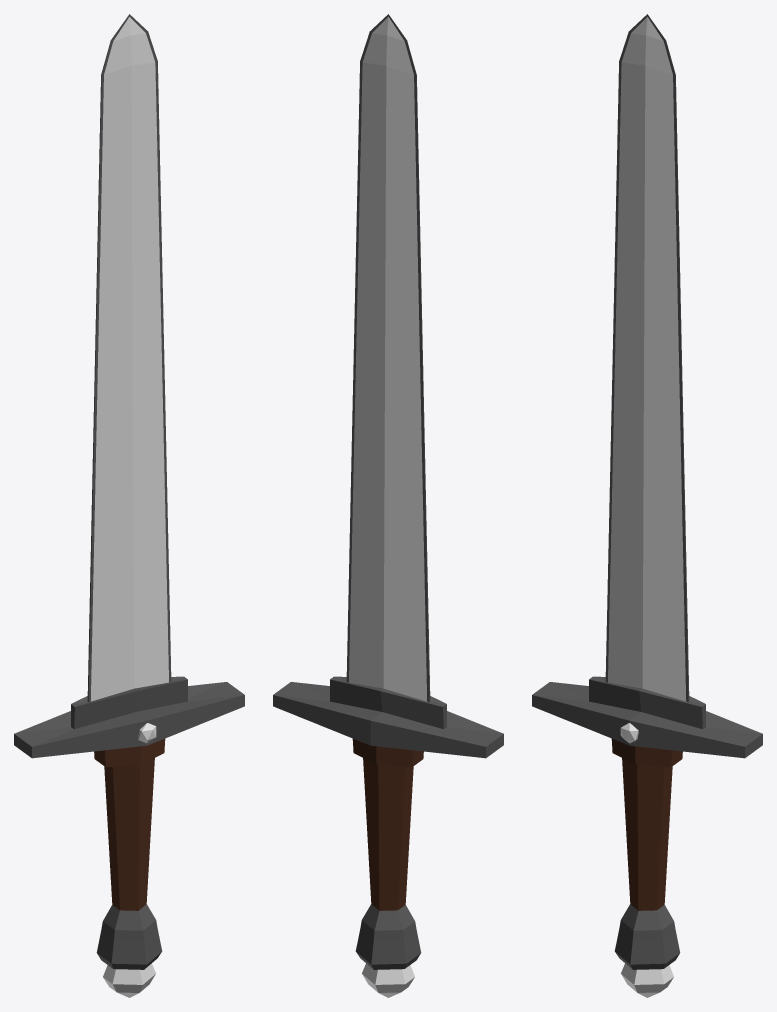
The model's file is sword_beginner.fbx.
3 views of the same model, side by side, from view 1: azimuth 30°, elevation 25°; view 2: azimuth 150°, elevation 25°; view 3: azimuth 330°, elevation 25° (orthographic).
Visible parts, largest first — view 1: sword; view 2: sword; view 3: sword.
Boxes of the visible parts, <box> form: sword: <box>14,14,244,997</box>; sword: <box>273,14,503,997</box>; sword: <box>532,14,762,997</box>.
Size of the model in its own units: 332 by 1466 by 104.
